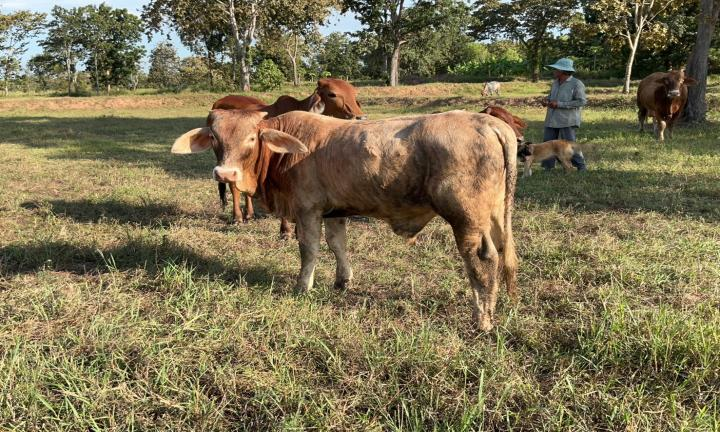Charolais: (171, 110, 517, 330)
